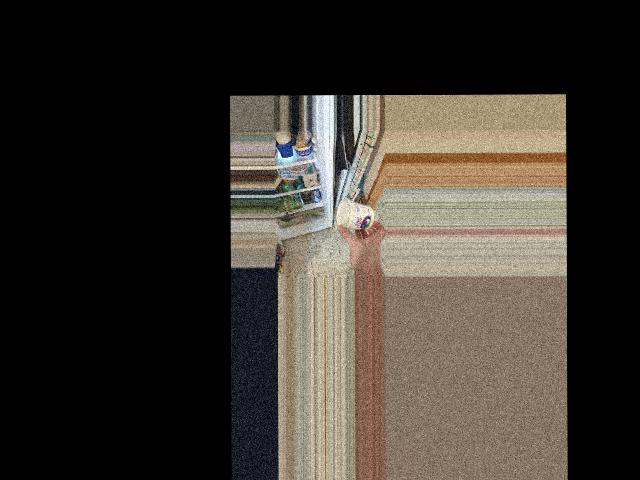cotage: (334, 197, 375, 235)
